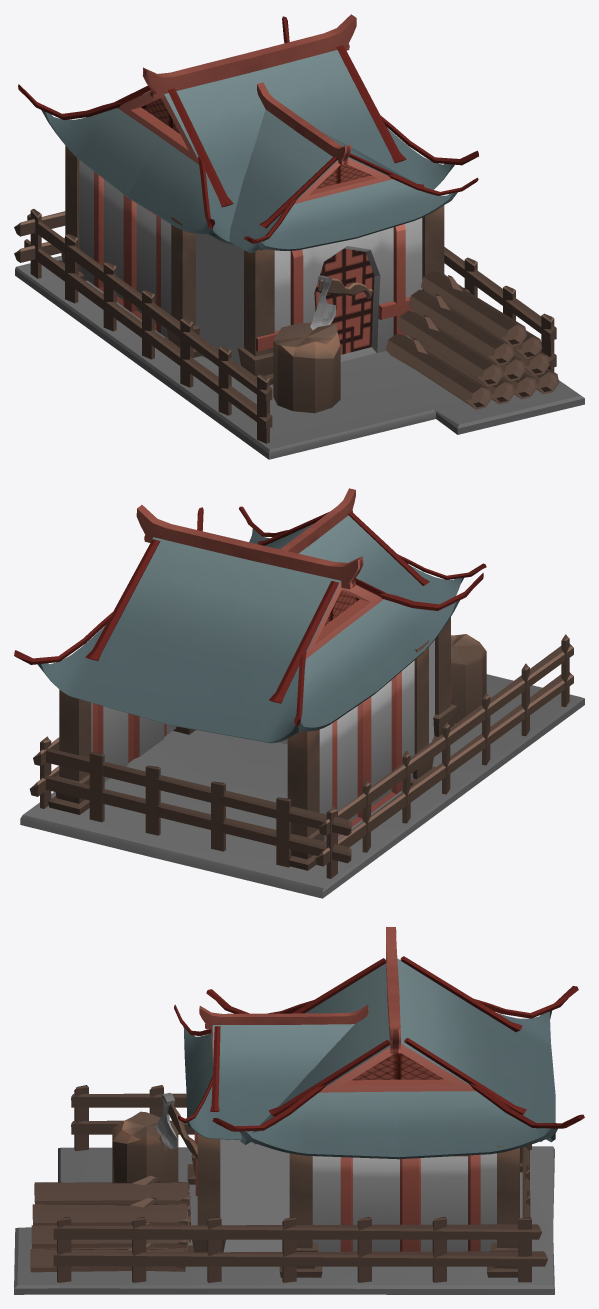
The model's file is sawmill_3lvl.fbx.
3 views of the same model, one above another, from view 1: azimuth 30°, elevation 25°; view 2: azimuth 150°, elevation 25°; view 3: azimuth 270°, elevation 25° (orthographic). The views are drawn at different scales.
Parts seen in each view (by area): view 1: sawmill_3lvl; view 2: sawmill_3lvl; view 3: sawmill_3lvl.
Boxes of the visible parts, <box> form: sawmill_3lvl: <box>14,14,584,459</box>; sawmill_3lvl: <box>14,488,584,898</box>; sawmill_3lvl: <box>14,927,584,1294</box>.
Bounding box in the file's own units: 417 × 334 × 683.
